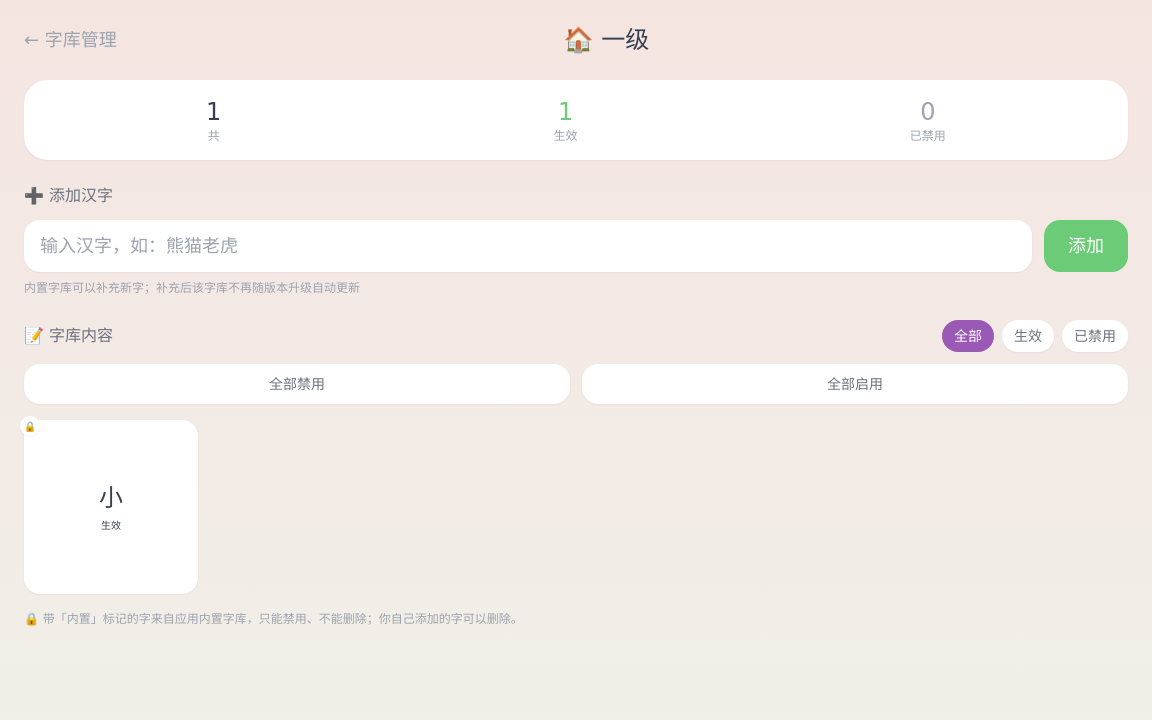
字库内容维护页 —— 内置字库 › 不能把字库里的字全部禁用（至少保留 1 个生效字）
Expected: the heading "➕ 添加汉字" is shown, [24,186,113,205]
Click the button with aria-label "禁用小" at [111, 507], box [24,420,198,594]
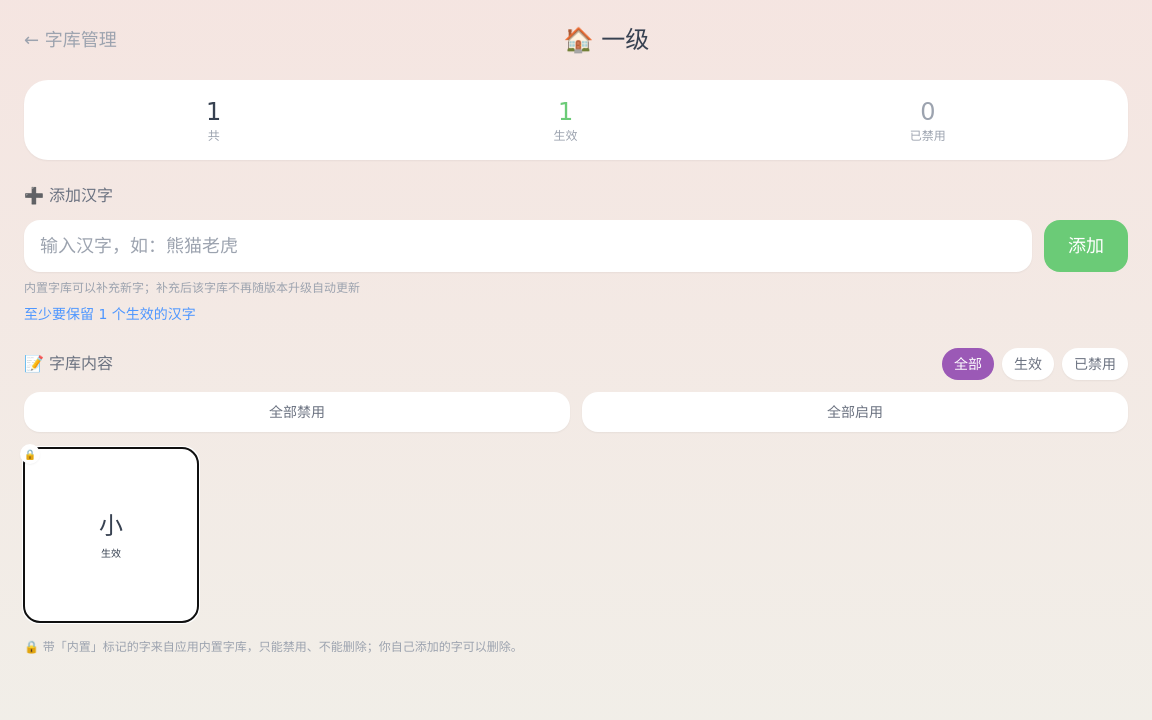
Now the text "至少要保留 1 个生效的汉字" is shown, box [24,306,196,322]
